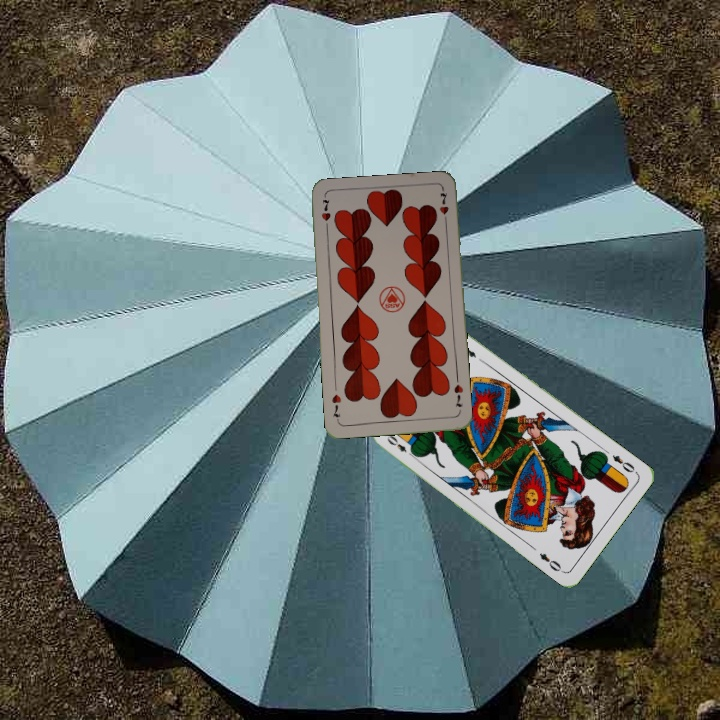EO: (383, 431, 418, 460), (608, 451, 637, 475)
H7: (317, 195, 333, 234), (450, 380, 466, 410)
